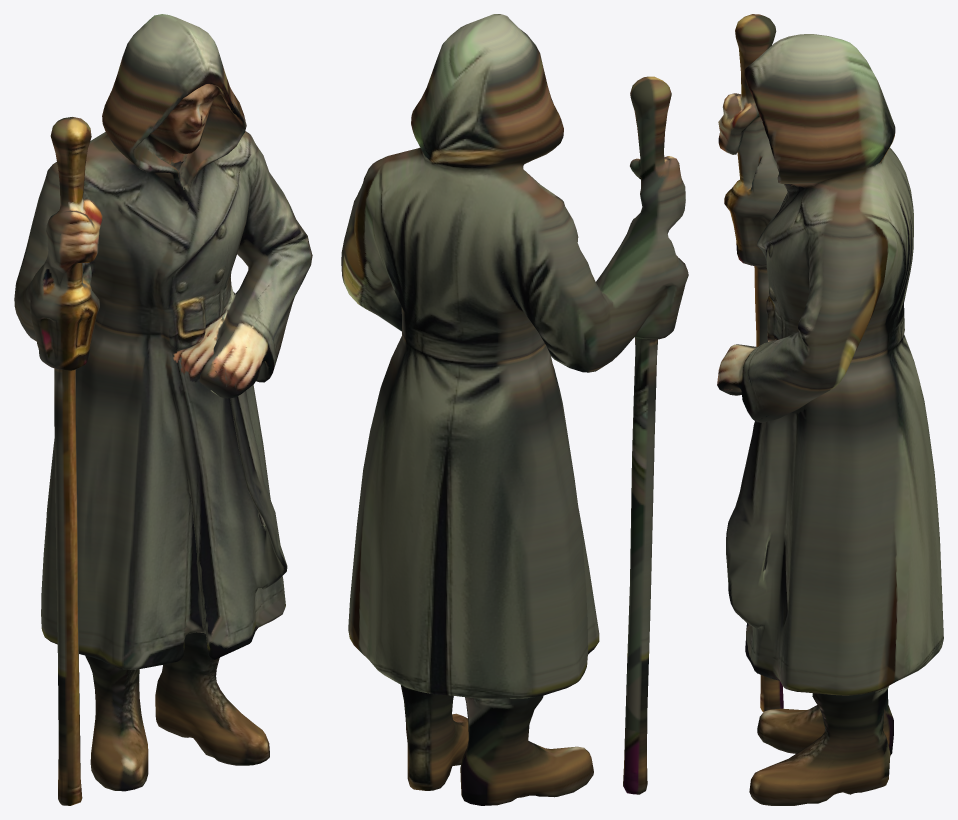
File: FerrymanOfFog.glb
3 views of the same model, side by side, from view 1: azimuth 30°, elevation 25°; view 2: azimuth 150°, elevation 25°; view 3: azimuth 270°, elevation 25° (orthographic). The views are drawn at different scales.
Visible parts, largest first — view 1: FerrymanOfFog; view 2: FerrymanOfFog; view 3: FerrymanOfFog.
Part boxes in pixels (x1,y1,x2,y2): FerrymanOfFog: [14, 14, 312, 805]; FerrymanOfFog: [341, 14, 688, 805]; FerrymanOfFog: [717, 14, 943, 805].
Bounding box in the file's own units: 2.16 × 5 × 1.39.
Materials: 1 (1 with a texture image).
